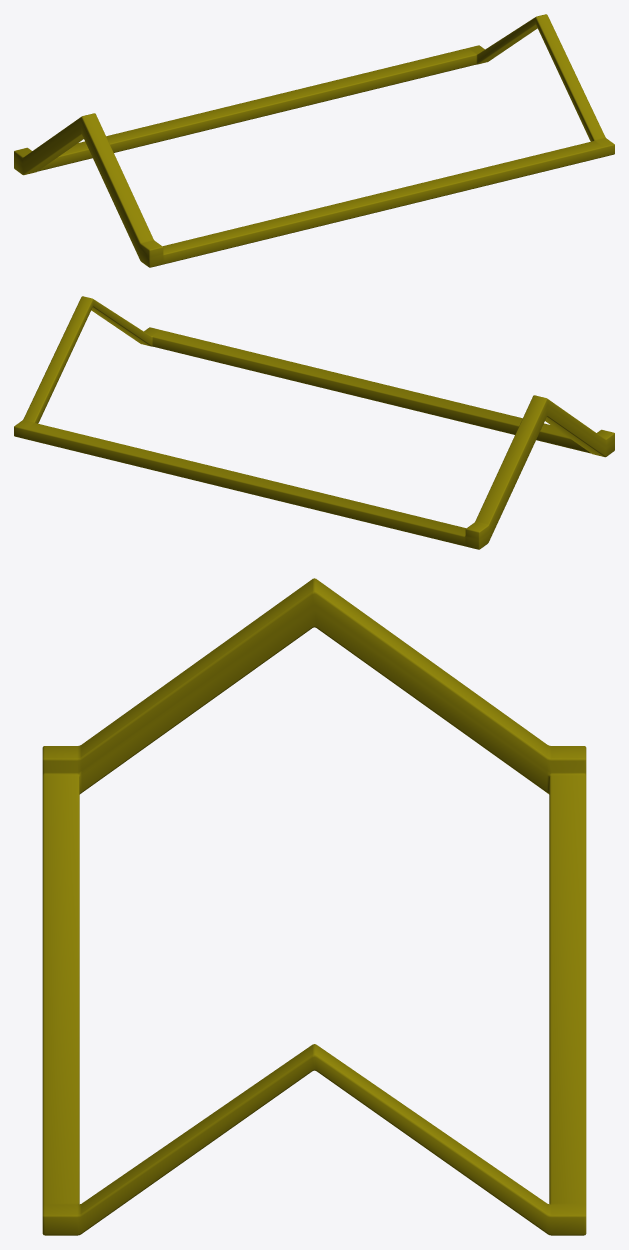
Rendered from FM_H_Doll_BH_Roof_Border_001.fbx.
The picture shows the model from 3 angles, top to bottom: view 1: azimuth 30°, elevation 25°; view 2: azimuth 150°, elevation 25°; view 3: azimuth 270°, elevation 25°; orthographic projection. The views are drawn at different scales.
Parts seen in each view (by area): view 1: H_Doll_BH_Roof_Border_001; view 2: H_Doll_BH_Roof_Border_001; view 3: H_Doll_BH_Roof_Border_001.
Part boxes in pixels (x1,y1,x2,y2): H_Doll_BH_Roof_Border_001: (14, 14, 614, 267); H_Doll_BH_Roof_Border_001: (14, 296, 614, 549); H_Doll_BH_Roof_Border_001: (42, 578, 586, 1235).
Size of the model in its own units: 22.89 by 4.8 by 11.57.
